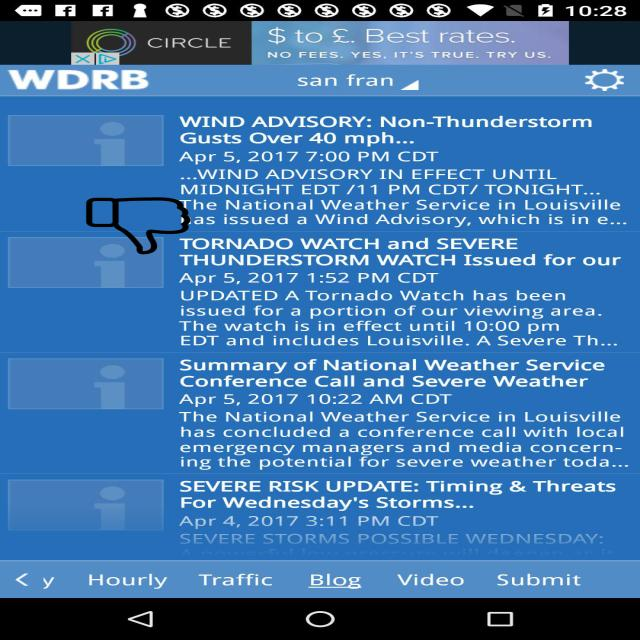obstruction: (85, 198, 192, 255)
